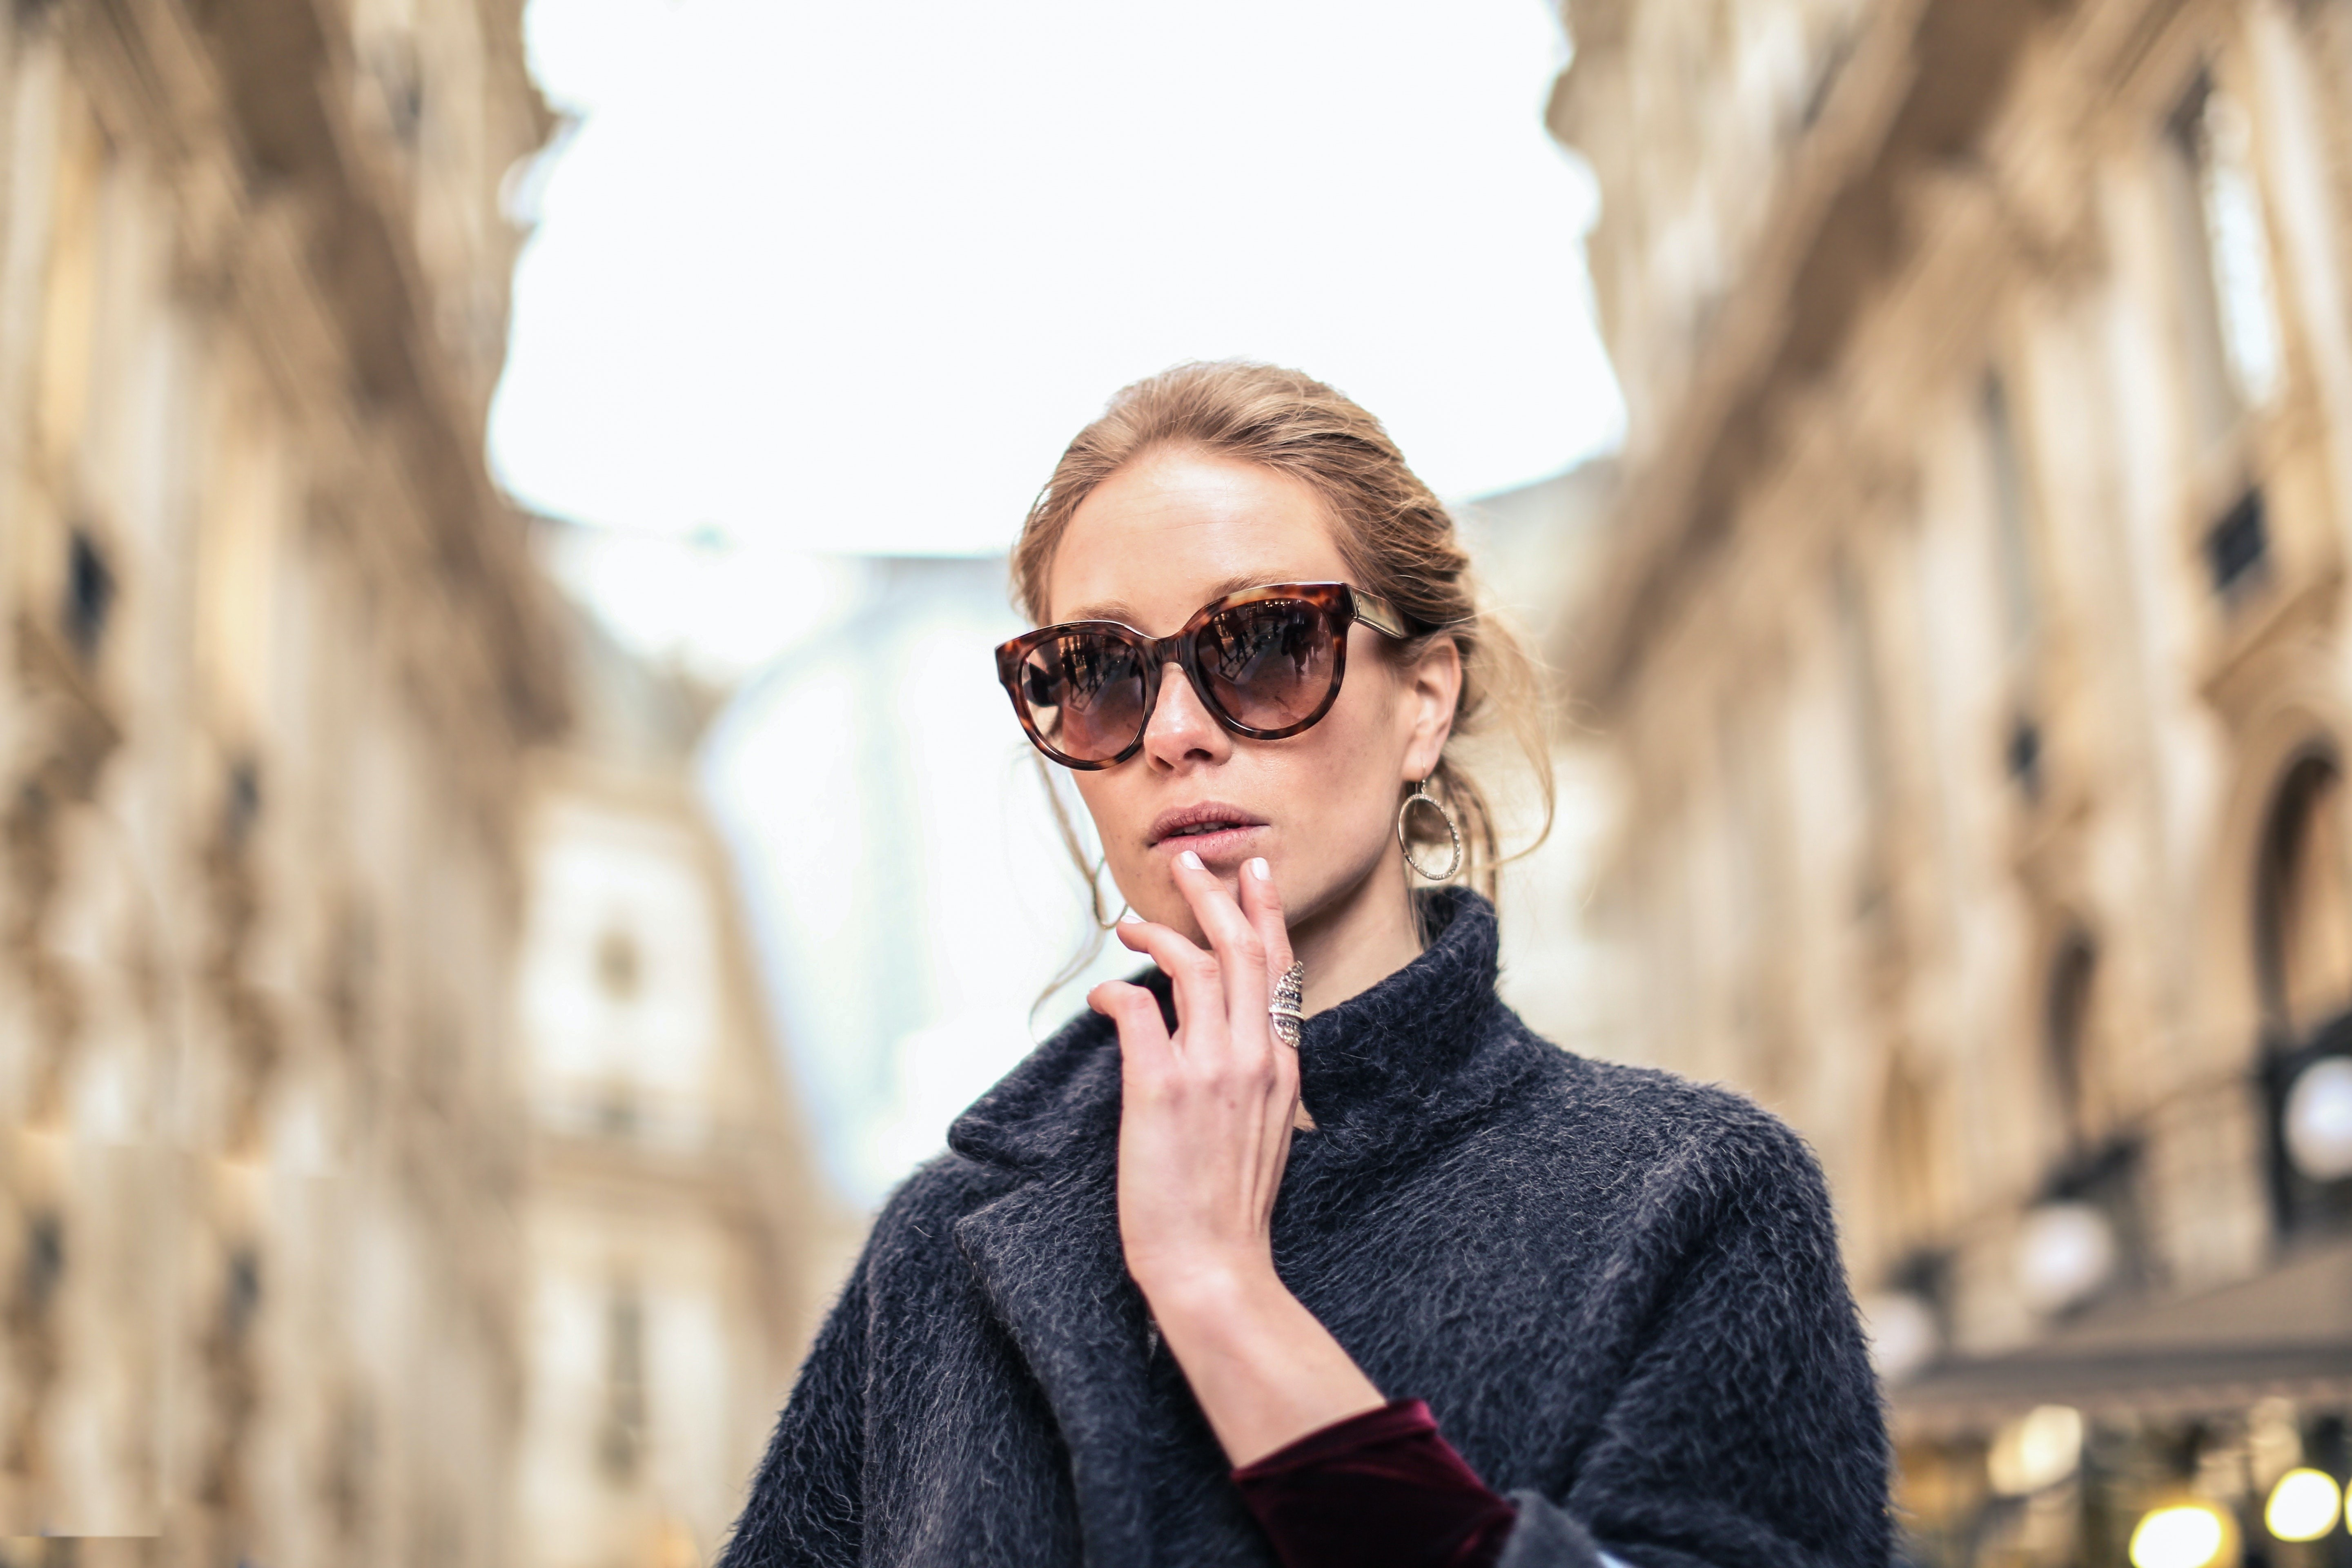face_no_mask: (1010, 416, 1422, 936)
